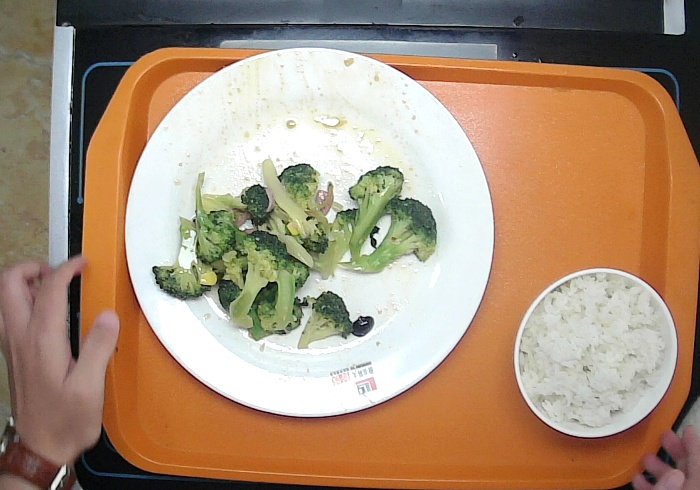ZNLD-Da_Yuan_Pan: (118, 39, 505, 422)
ZNLD-Fan_Wan: (503, 262, 685, 447)
